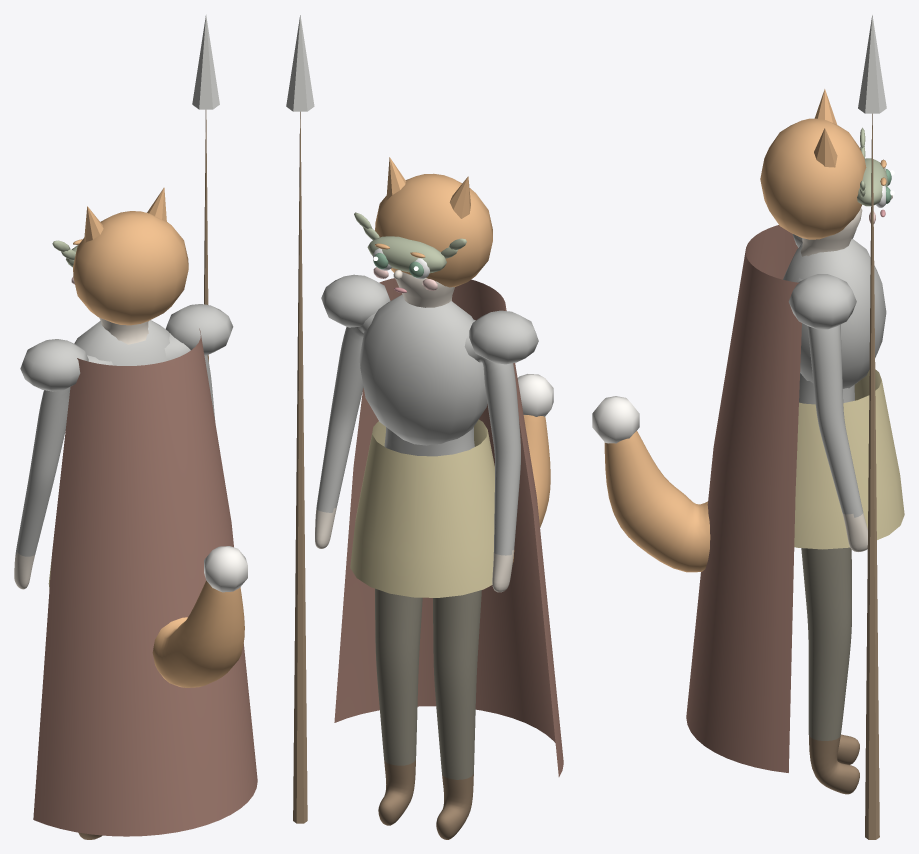
The model's file is sentry_2_true.gltf.
The picture shows the model from 3 angles, left to right: view 1: azimuth 30°, elevation 25°; view 2: azimuth 150°, elevation 25°; view 3: azimuth 270°, elevation 25°; orthographic projection. The views are drawn at different scales.
Parts seen in each view (by area): view 1: sentry_2_true; view 2: sentry_2_true; view 3: sentry_2_true.
Boxes of the visible parts, box(x1,y1,x2,y2) form: sentry_2_true: box(14, 14, 257, 839); sentry_2_true: box(286, 15, 563, 839); sentry_2_true: box(592, 15, 904, 839).
Size of the model in its own units: 0.6788 by 2.29 by 0.7886.
